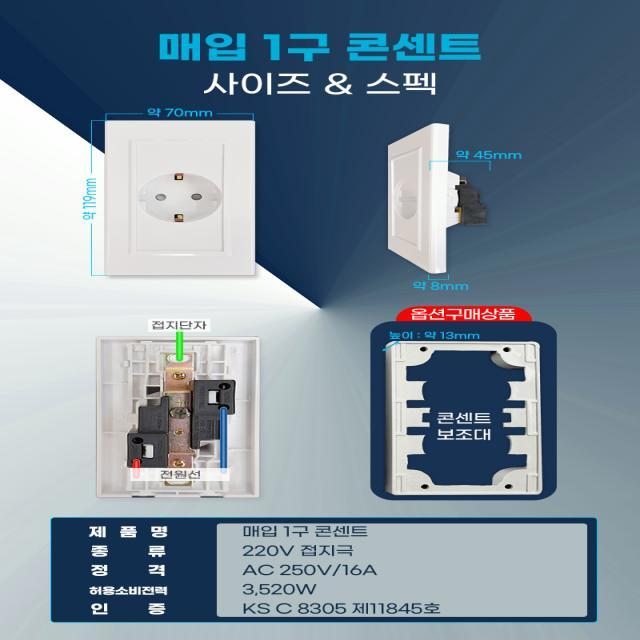typeb: (98, 97, 272, 298)
